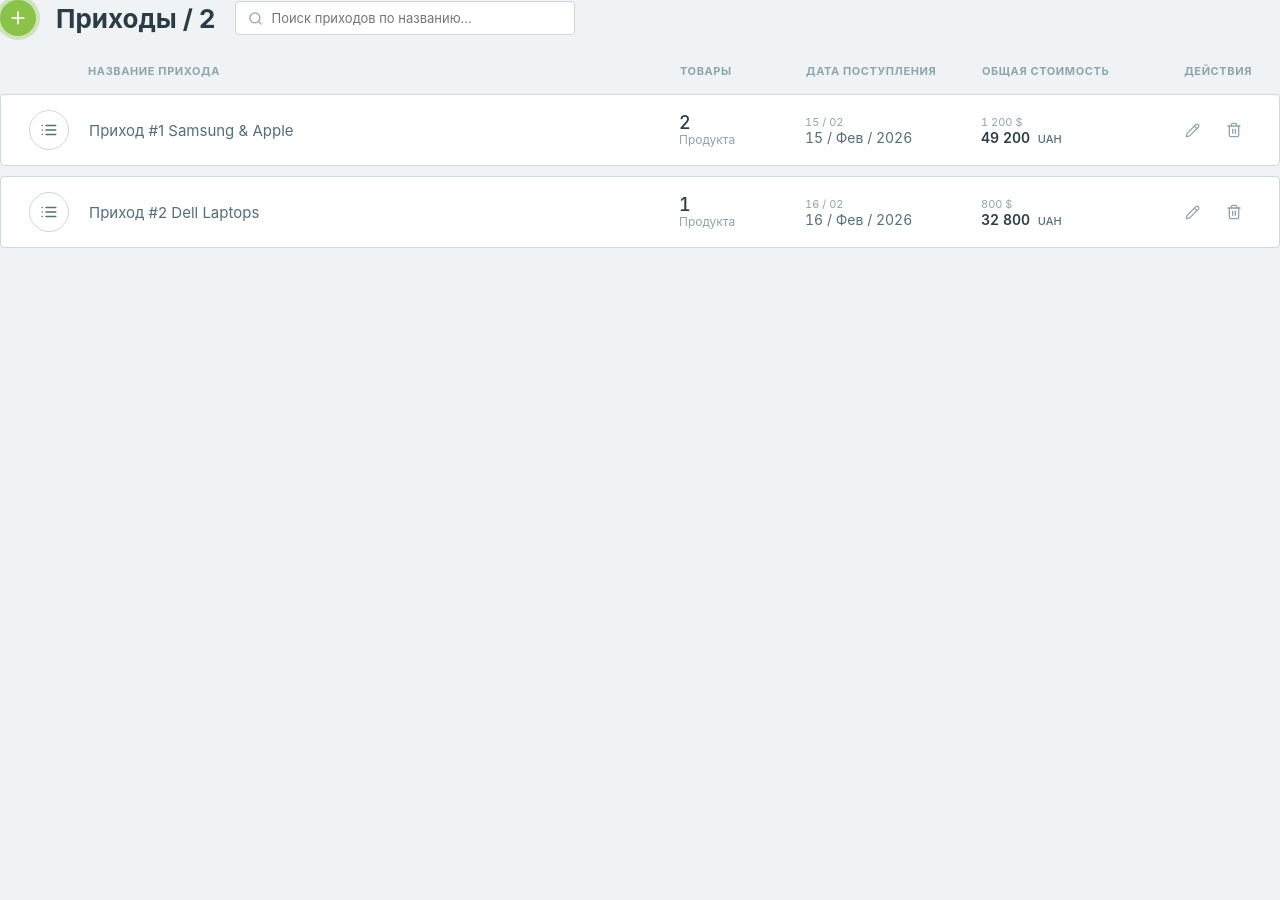
it: Frontend Orders Page Integration Tests (Redux + Master-Detail View) › opens DeleteConfirmModal and allows cancellation
The width and height of the screenshot is (1280, 900).
Expected: the text "Приход #1 Samsung & Apple" is shown, x1=89 y1=121 x2=294 y2=140
Note: Click trash button on the first order card
Click the button titled "Удалить приход" in the row of "49 200": (1234, 130) x1=1217 y1=113 x2=1251 y2=147
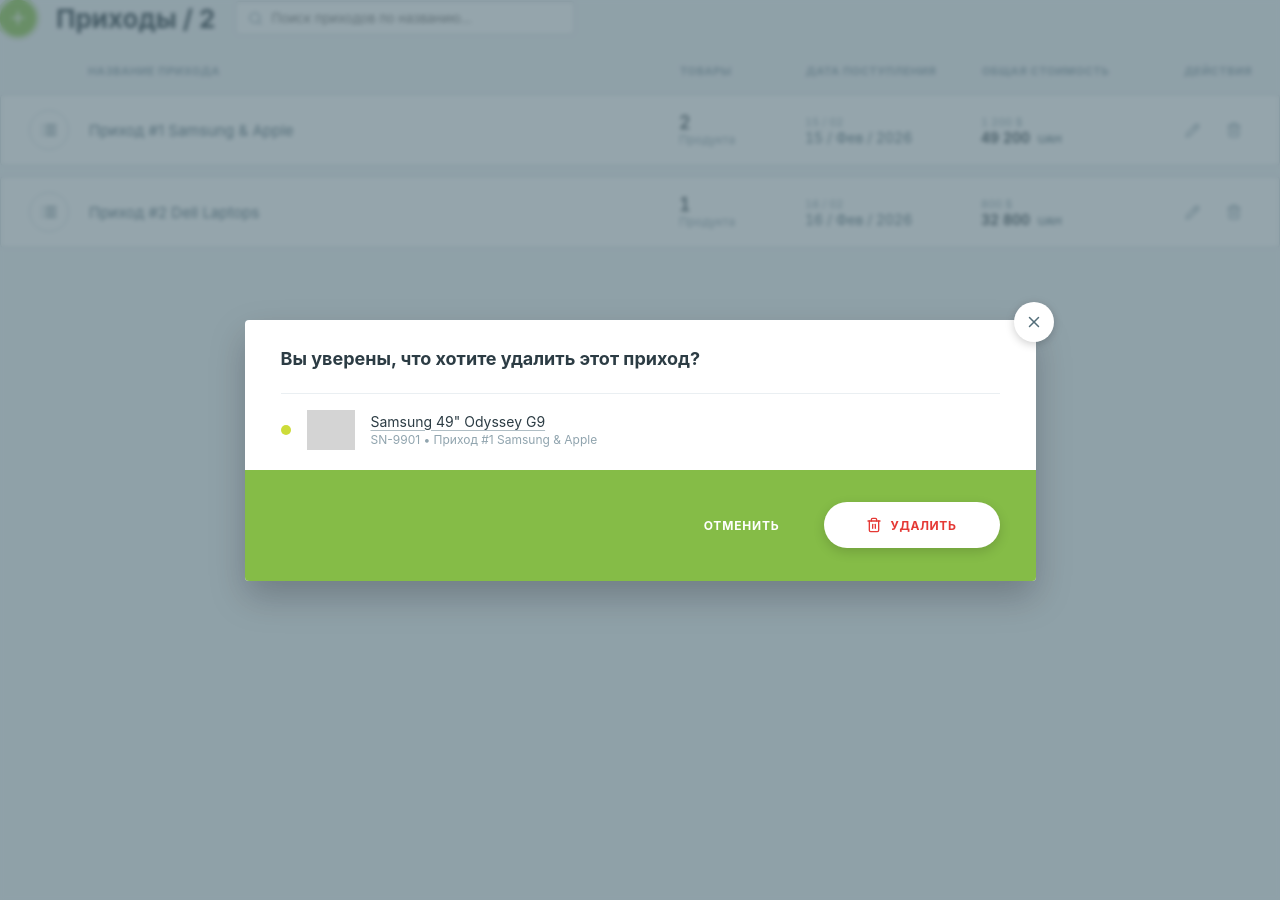
Expected: the heading "Вы уверены, что хотите удалить этот приход?" is shown, x1=280 y1=348 x2=700 y2=368
Expected: the button "ОТМЕНИТЬ" is shown
Note: Click cancel
Click the button "ОТМЕНИТЬ": (742, 525) x1=688 y1=508 x2=796 y2=542
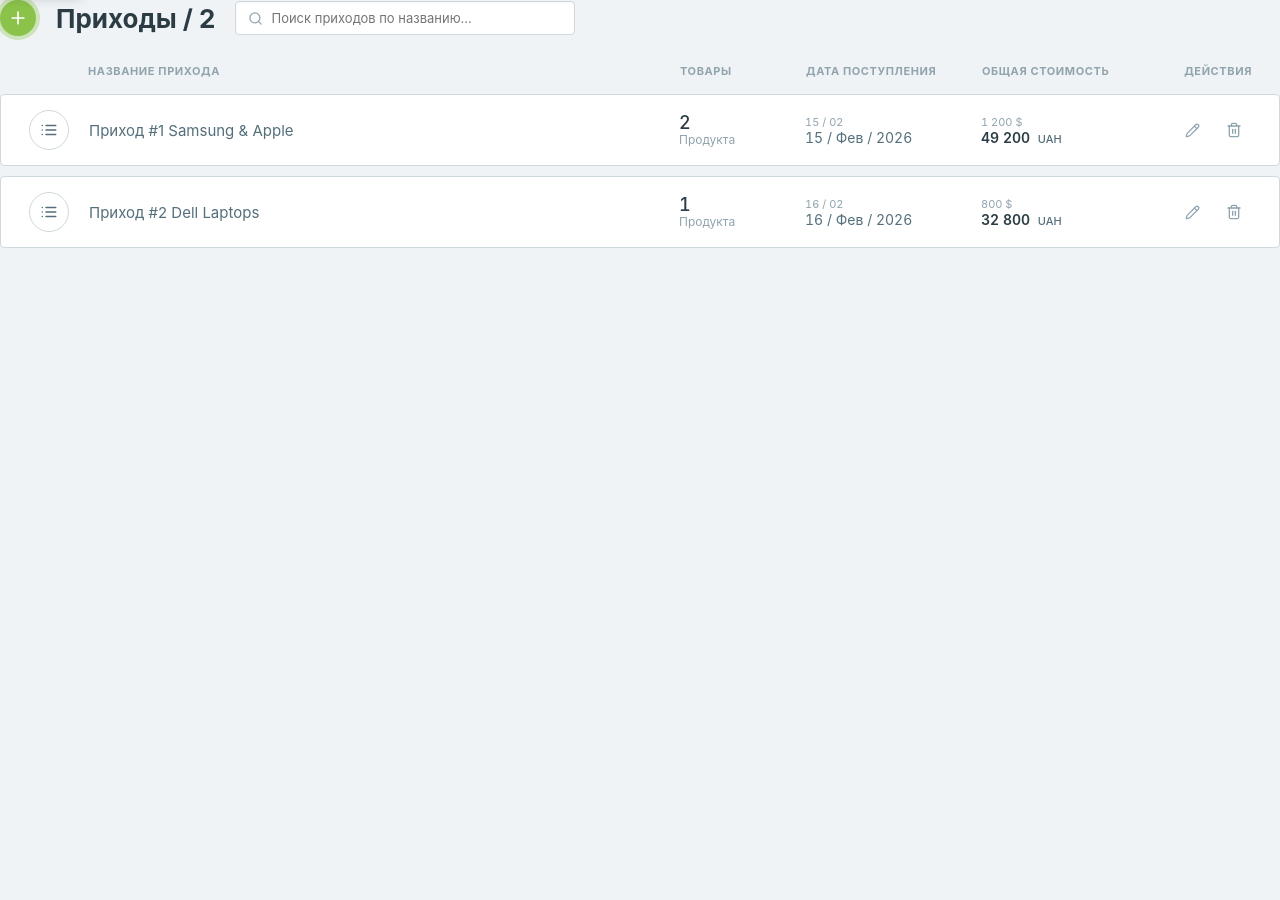
Expected: the heading "Вы уверены, что хотите удалить этот приход?" is gone
